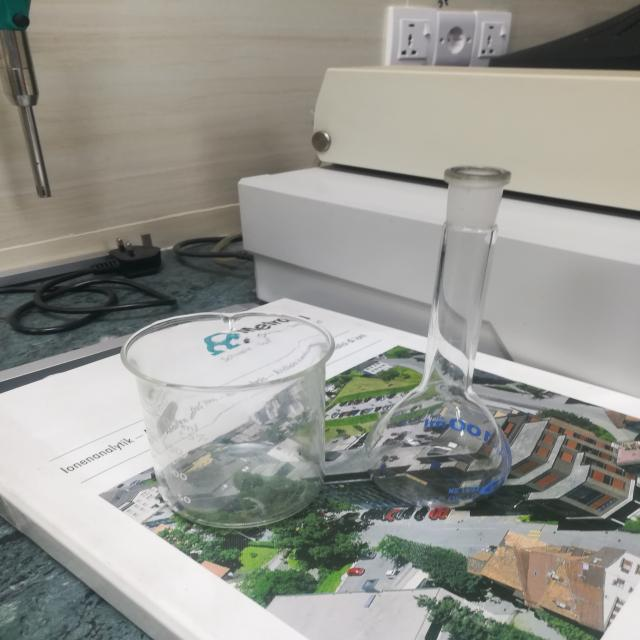Beaker: (93, 289, 356, 551)
Volumetric_Flask: (368, 139, 542, 525)
